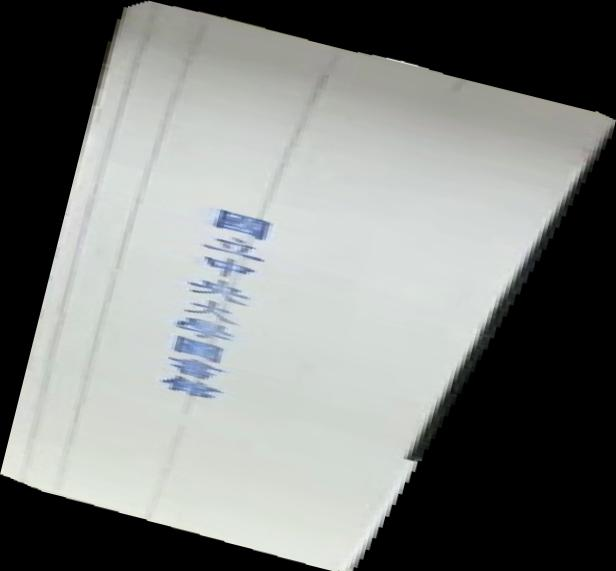backward: (1, 1, 616, 571)
